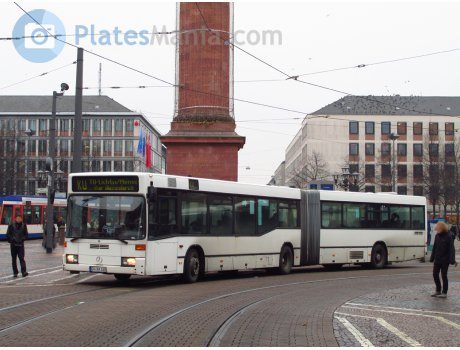License Plates: (89, 265, 109, 270)
